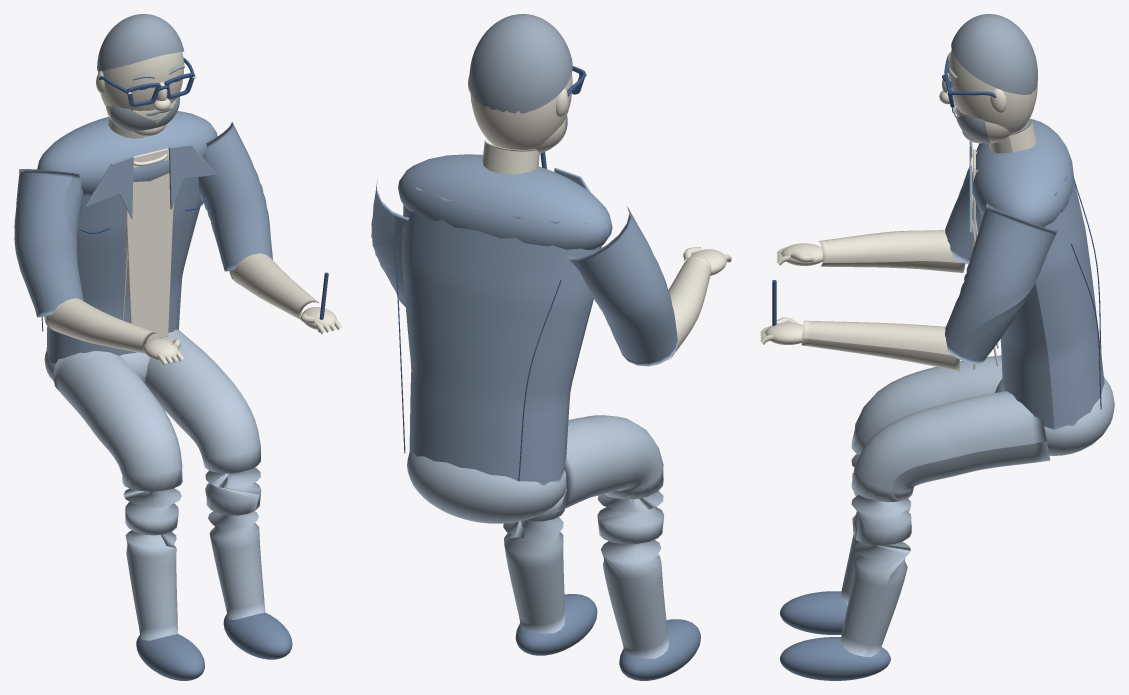
Rendered from architect.glb.
The picture shows the model from 3 angles, left to right: view 1: azimuth 30°, elevation 25°; view 2: azimuth 150°, elevation 25°; view 3: azimuth 270°, elevation 25°; orthographic projection. The views are drawn at different scales.
Parts seen in each view (by area): view 1: trouser-leg--1, trouser-leg-1, structured-jacket, rolled-sleeve--1, rolled-sleeve-1, crew-neck-shirt-inset, shoulder-line, close-cropped-hair, forearm--1, face, forearm-1, loafer--1 (+6 smaller); view 2: structured-jacket, trouser-leg--1, shoulder-line, rolled-sleeve--1, close-cropped-hair, seated-hips, trouser-leg-1, face, loafer--1, loafer-1, forearm--1, rolled-sleeve-1 (+1 smaller); view 3: trouser-leg-1, structured-jacket, rolled-sleeve-1, shoulder-line, trouser-leg--1, forearm-1, close-cropped-hair, forearm--1, loafer-1, face, seated-hips, loafer--1 (+5 smaller).
Part boxes in pixels (box(x1,y1,x2,y2)): trouser-leg--1: box(53, 351, 182, 640); trouser-leg-1: box(145, 329, 265, 619); structured-jacket: box(46, 177, 201, 363); rolled-sleeve--1: box(14, 169, 84, 317); rolled-sleeve-1: box(198, 122, 272, 271); crew-neck-shirt-inset: box(125, 148, 173, 341); shoulder-line: box(37, 111, 217, 195); close-cropped-hair: box(97, 14, 184, 70); forearm--1: box(44, 298, 157, 353); face: box(98, 52, 184, 110); forearm-1: box(229, 253, 318, 319); loafer--1: box(136, 634, 204, 680); structured-jacket: box(401, 179, 601, 486); trouser-leg--1: box(553, 415, 668, 658); shoulder-line: box(398, 154, 612, 249); rolled-sleeve--1: box(566, 206, 677, 366); close-cropped-hair: box(469, 14, 572, 113); seated-hips: box(407, 451, 566, 523); trouser-leg-1: box(503, 491, 566, 633); face: box(470, 73, 572, 149); loafer--1: box(619, 619, 700, 680); loafer-1: box(515, 594, 597, 655); forearm--1: box(668, 256, 711, 359); rolled-sleeve-1: box(371, 179, 408, 306); trouser-leg-1: box(841, 391, 1050, 656); structured-jacket: box(980, 161, 1104, 430); rolled-sleeve-1: box(945, 203, 1057, 364); shoulder-line: box(972, 119, 1073, 226); trouser-leg--1: box(841, 355, 1002, 604); forearm-1: box(801, 320, 959, 371); close-cropped-hair: box(951, 14, 1037, 94); forearm--1: box(818, 230, 965, 272); loafer-1: box(780, 637, 890, 680); face: box(948, 50, 1037, 133); seated-hips: box(995, 377, 1114, 455); loafer--1: box(780, 591, 847, 634).
Size of the model in its own units: 1.11 by 2.59 by 1.31.
